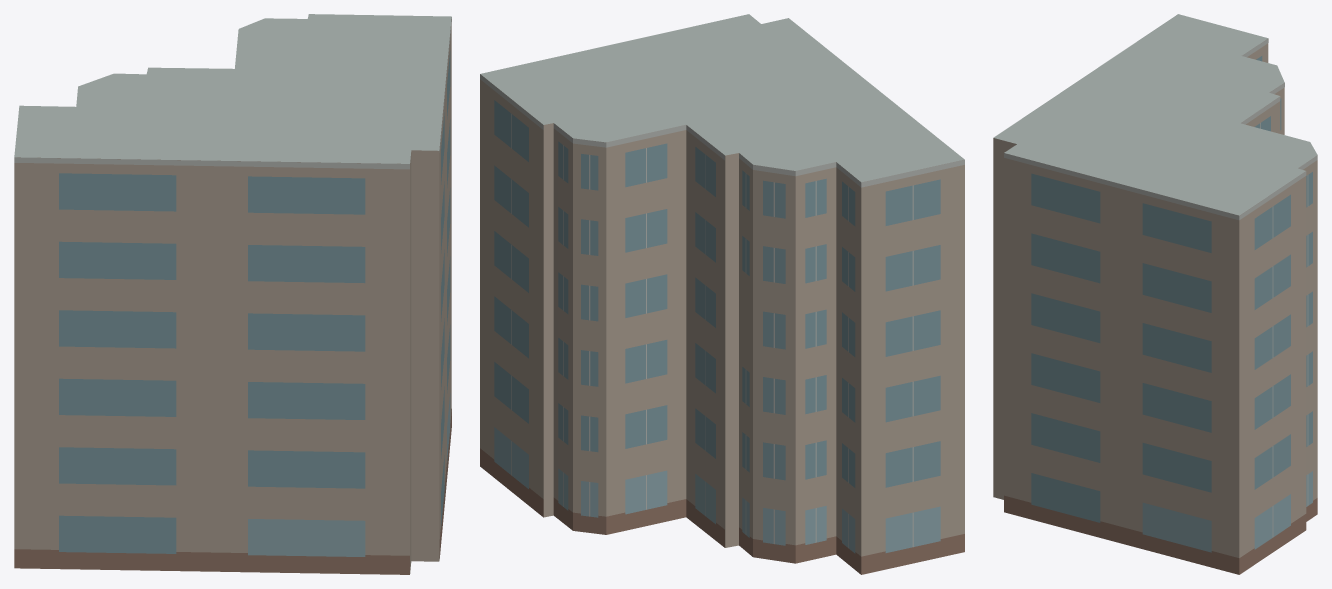
The model's file is survey-upis-32915205.glb.
The picture shows the model from 3 angles, left to right: view 1: azimuth 30°, elevation 25°; view 2: azimuth 150°, elevation 25°; view 3: azimuth 270°, elevation 25°; orthographic projection. The views are drawn at different scales.
Visible parts, largest first — view 1: survey-upis-32915205.tmp; view 2: survey-upis-32915205.tmp; view 3: survey-upis-32915205.tmp.
Boxes of the visible parts, <box> form: survey-upis-32915205.tmp: <box>14,14,451,574</box>; survey-upis-32915205.tmp: <box>480,14,964,574</box>; survey-upis-32915205.tmp: <box>993,14,1317,574</box>.
Bounding box in the file's own units: 22.03 × 18.3 × 14.98.
